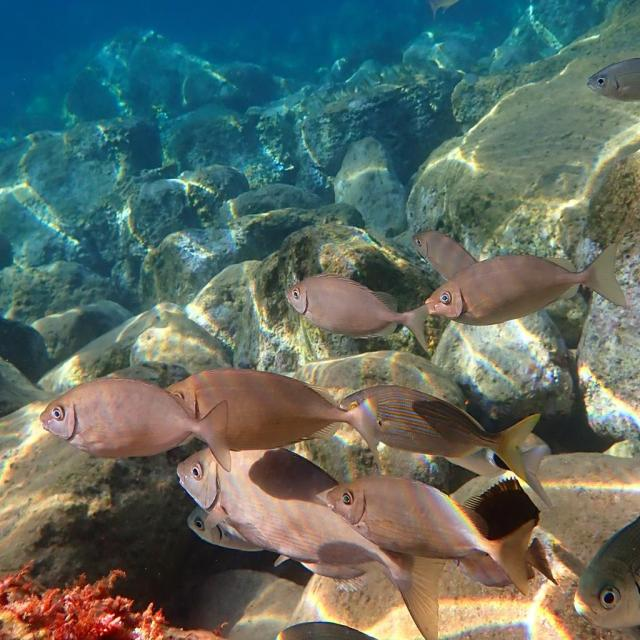Sokar Baligi: (34, 361, 238, 481), (424, 240, 636, 326)
